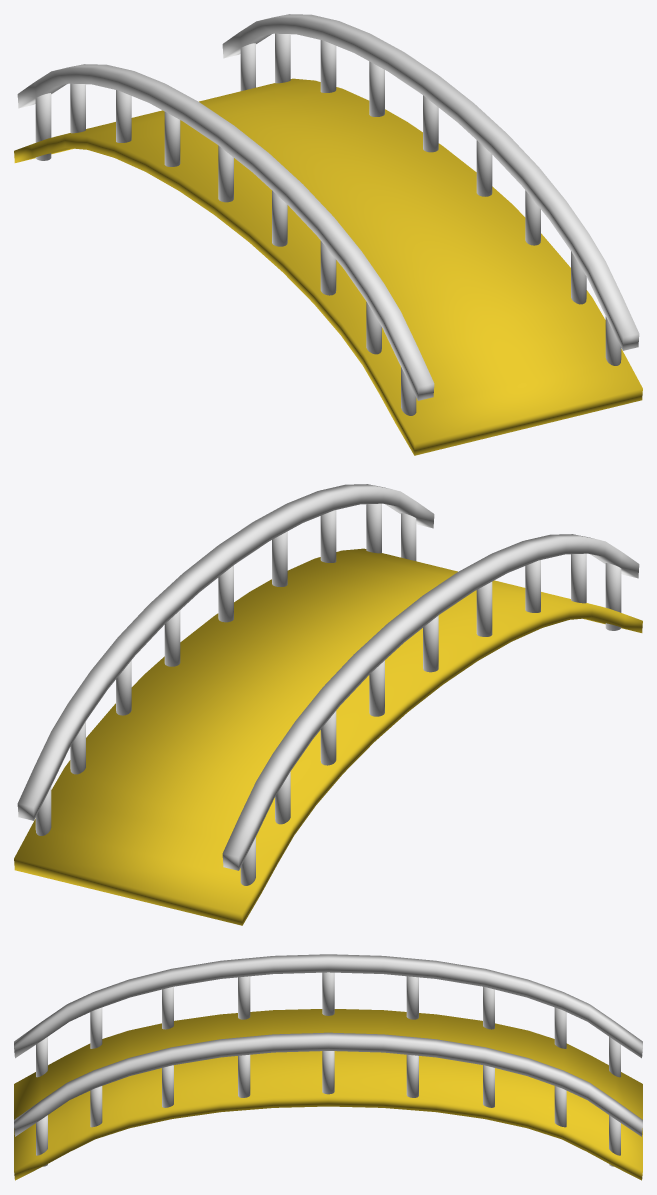
File: bridge.fbx
The picture shows the model from 3 angles, top to bottom: view 1: azimuth 30°, elevation 25°; view 2: azimuth 150°, elevation 25°; view 3: azimuth 270°, elevation 25°; orthographic projection. The views are drawn at different scales.
Visible parts, largest first — view 1: Circle, Circle.001, Cylinder; view 2: Circle, Circle.001, Cylinder; view 3: Circle, Circle.001, Cylinder.
Boxes of the visible parts, left/top/right/bottom form: Circle: left=14, top=78, right=642, bottom=455; Circle.001: left=17, top=14, right=639, bottom=400; Cylinder: left=35, top=33, right=621, bottom=415; Circle: left=14, top=548, right=642, bottom=925; Circle.001: left=17, top=484, right=639, bottom=870; Cylinder: left=35, top=503, right=621, bottom=885; Circle: left=14, top=1009, right=642, bottom=1180; Circle.001: left=14, top=954, right=642, bottom=1136; Cylinder: left=36, top=972, right=620, bottom=1166.
Bounding box in the file's own units: 688 × 514 × 2086.
